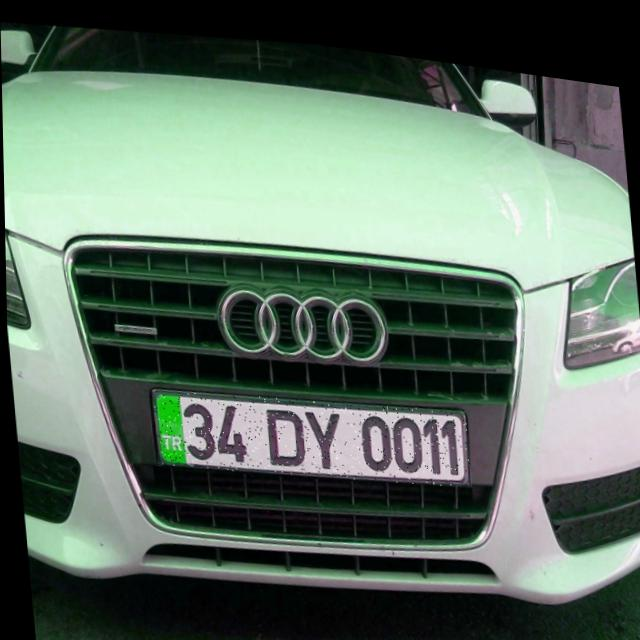license_plate: (149, 362, 470, 496)
